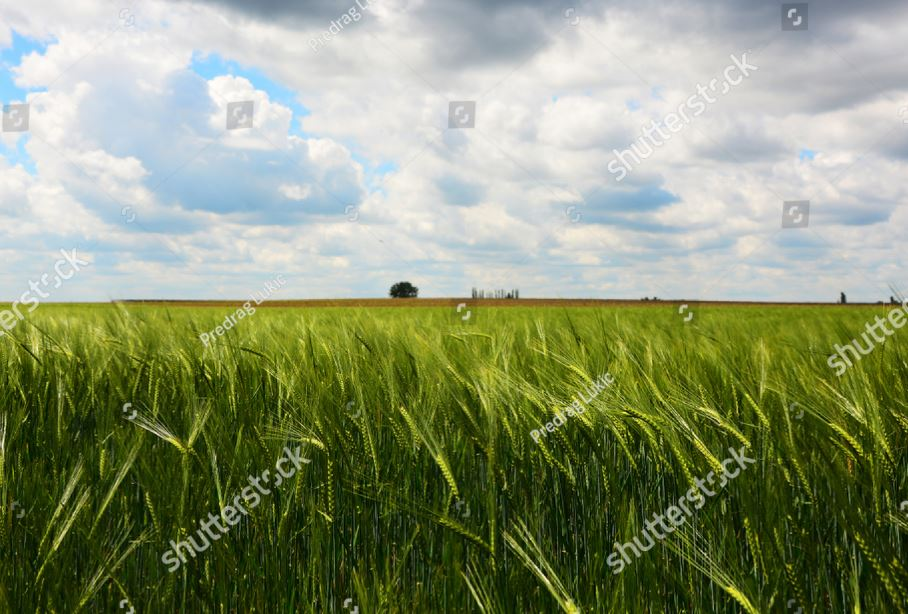Wheat: (141, 309, 860, 517)
